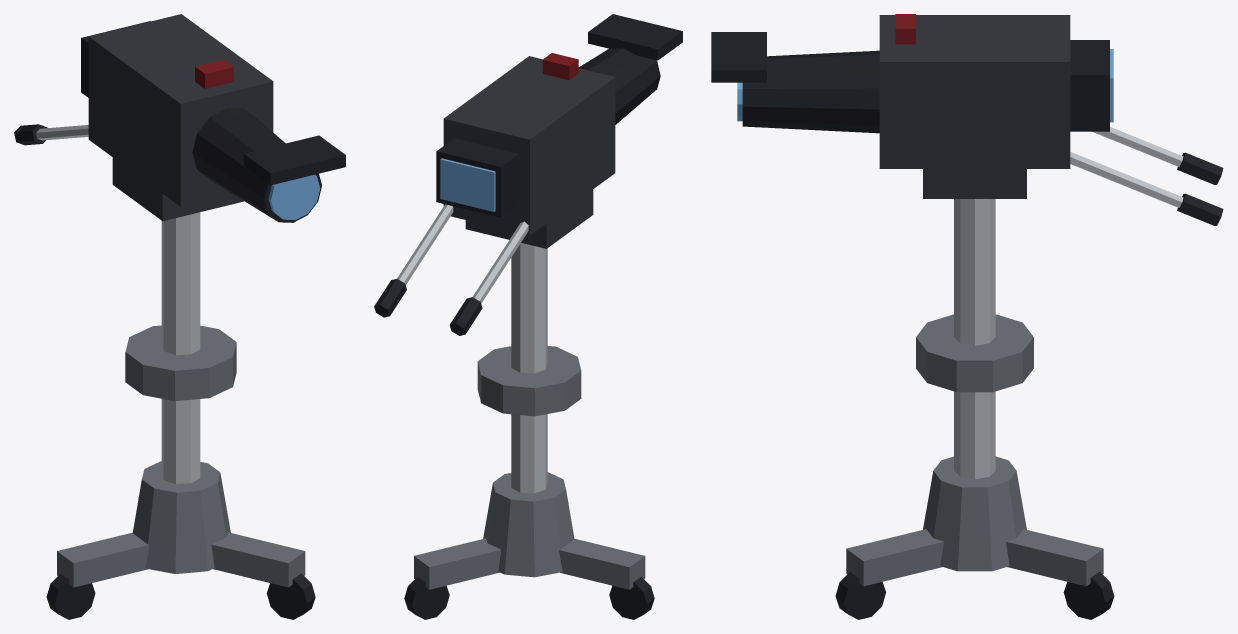
Rendered from tv_camera.glb.
The picture shows the model from 3 angles, left to right: view 1: azimuth 30°, elevation 25°; view 2: azimuth 150°, elevation 25°; view 3: azimuth 270°, elevation 25°; orthographic projection. The views are drawn at different scales.
Parts seen in each view (by area): view 1: body_tv_console, base_tv_cam_gray, column_tv_metal, column_tv_cam_gray, lens_tv_black, hood_tv_black, wheels_tv_black, head_tv_console, lens_tv_lens, tally_tv_tally, handles_tv_metal, viewfinder_tv_black (+1 smaller); view 2: body_tv_console, base_tv_cam_gray, column_tv_metal, column_tv_cam_gray, viewfinder_tv_black, lens_tv_black, hood_tv_black, wheels_tv_black, viewfinder_tv_lens, handles_tv_metal, head_tv_console, handles_tv_black (+1 smaller); view 3: body_tv_console, base_tv_cam_gray, lens_tv_black, column_tv_metal, column_tv_cam_gray, viewfinder_tv_black, wheels_tv_black, head_tv_console, hood_tv_black, handles_tv_metal, handles_tv_black.
Part boxes in pixels (<box>): body_tv_console: <box>88,14,273,206</box>; base_tv_cam_gray: <box>57,461,305,587</box>; column_tv_metal: <box>161,212,200,483</box>; column_tv_cam_gray: <box>125,325,236,401</box>; lens_tv_black: <box>192,108,321,222</box>; hood_tv_black: <box>243,135,345,185</box>; wheels_tv_black: <box>46,573,315,619</box>; head_tv_console: <box>112,157,243,221</box>; lens_tv_lens: <box>268,174,320,219</box>; tally_tv_tally: <box>195,59,233,88</box>; handles_tv_metal: <box>36,125,88,140</box>; viewfinder_tv_black: <box>81,21,150,97</box>; body_tv_console: <box>443,56,615,235</box>; base_tv_cam_gray: <box>414,472,645,589</box>; column_tv_metal: <box>511,243,547,493</box>; column_tv_cam_gray: <box>477,346,581,416</box>; viewfinder_tv_black: <box>436,138,518,217</box>; lens_tv_black: <box>578,48,660,124</box>; hood_tv_black: <box>588,14,682,60</box>; wheels_tv_black: <box>404,576,654,619</box>; viewfinder_tv_lens: <box>440,158,495,211</box>; handles_tv_metal: <box>397,204,528,303</box>; head_tv_console: <box>465,189,593,248</box>; handles_tv_black: <box>374,279,482,335</box>; body_tv_console: <box>879,15,1070,168</box>; base_tv_cam_gray: <box>846,456,1103,586</box>; lens_tv_black: <box>742,50,879,133</box>; column_tv_metal: <box>954,199,995,479</box>; column_tv_cam_gray: <box>916,314,1033,392</box>; viewfinder_tv_black: <box>1070,40,1109,131</box>; wheels_tv_black: <box>835,571,1114,619</box>; head_tv_console: <box>923,169,1026,198</box>; hood_tv_black: <box>711,32,766,82</box>; handles_tv_metal: <box>1070,127,1183,207</box>; handles_tv_black: <box>1177,152,1223,225</box>.
Size of the model in its own units: 0.6967 by 1.8 by 1.48.
